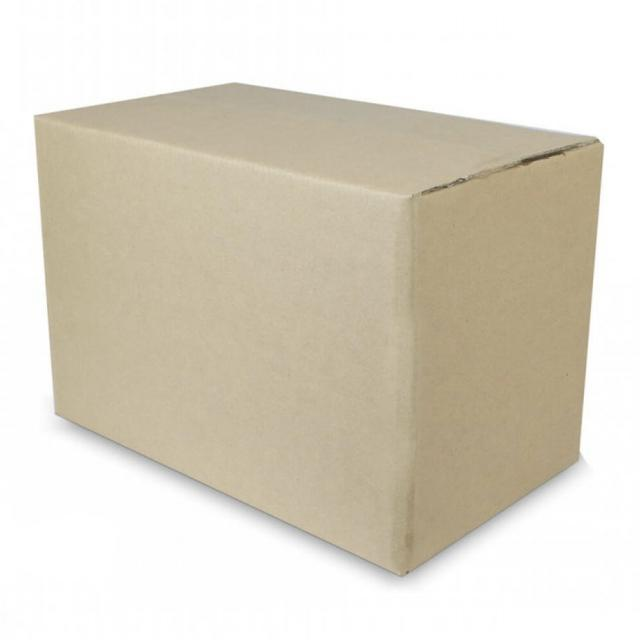box: (8, 65, 636, 601)
